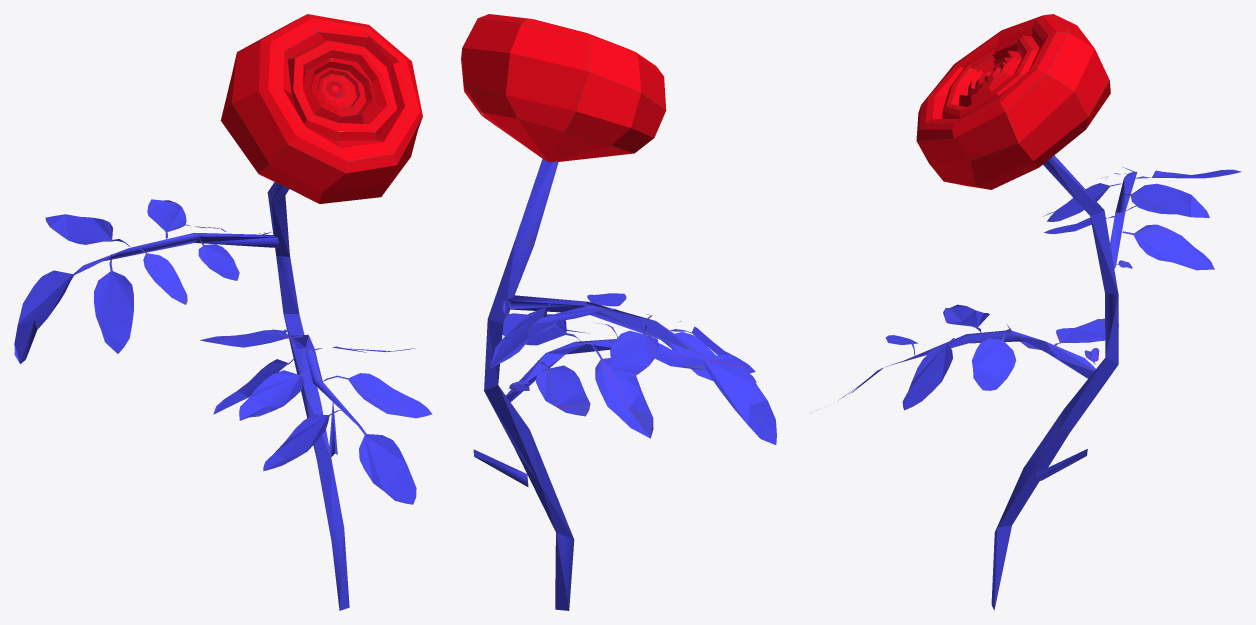
File: rosa.glb
3 renders of one model, left to right at view 1: azimuth 30°, elevation 25°; view 2: azimuth 150°, elevation 25°; view 3: azimuth 270°, elevation 25°, orthographic. The views are drawn at different scales.
Parts seen in each view (by area): view 1: rosa:Mesh; view 2: rosa:Mesh; view 3: rosa:Mesh.
Part boxes in pixels (x1,y1,x2,y2): rosa:Mesh: [14, 14, 432, 610]; rosa:Mesh: [461, 14, 776, 610]; rosa:Mesh: [810, 14, 1241, 610].
Bounding box in the file's own units: 0.1166 × 0.1852 × 0.1274.
Materials: 1 (1 with a texture image).
